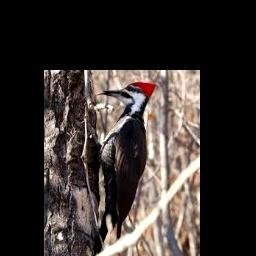Woodpecker: (96, 82, 156, 256)
